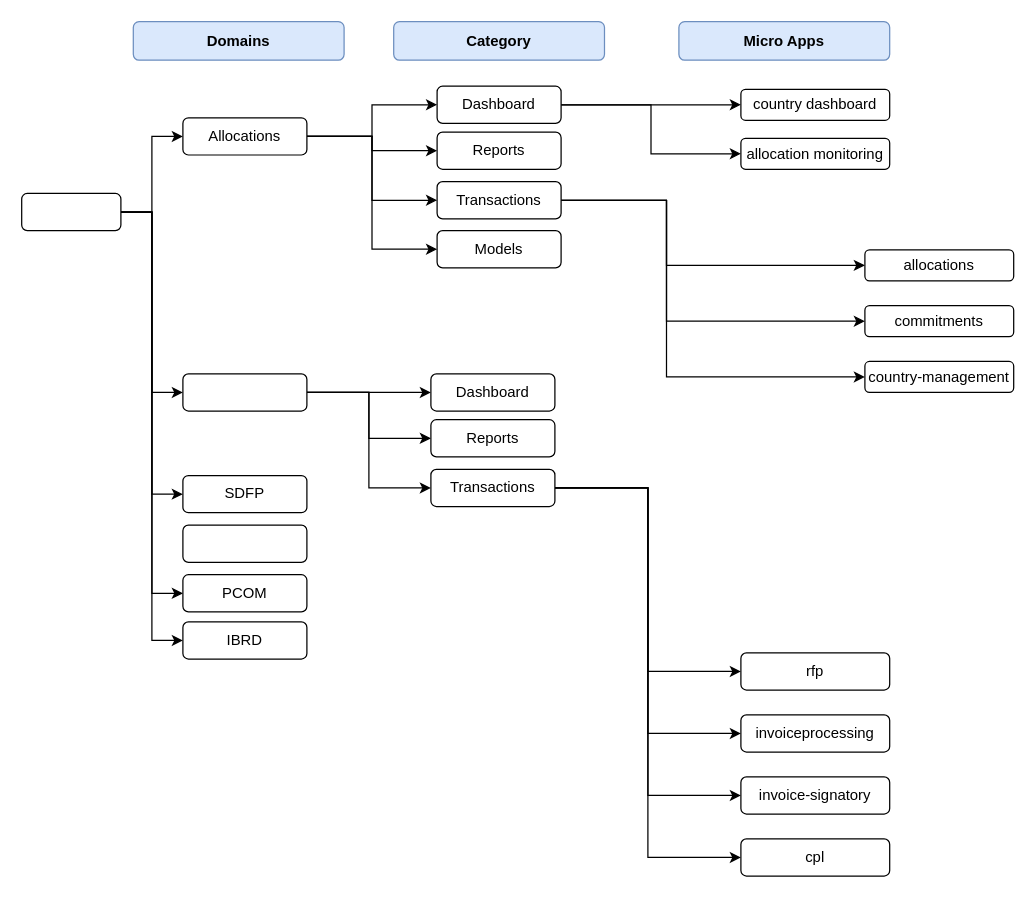
The diagram is 1035 pixels wide and 898 high, and some of its shapes have lost their labels. The shapes that lost their labels are listed below. From the top down, each one's centre as x and y in pixels, then its label:
At [70,211]: "Shell".
At [244,392]: "Finance".
At [244,543]: "PSW".
